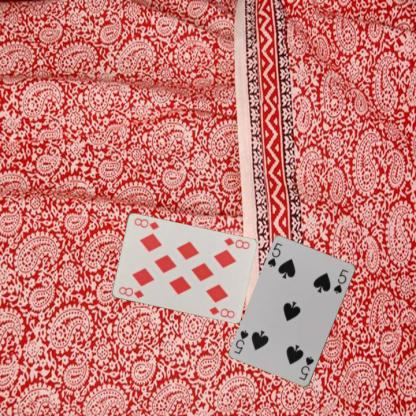5s: (265, 240, 284, 269), (297, 354, 316, 382)
8d: (221, 235, 251, 251), (116, 284, 145, 300)
